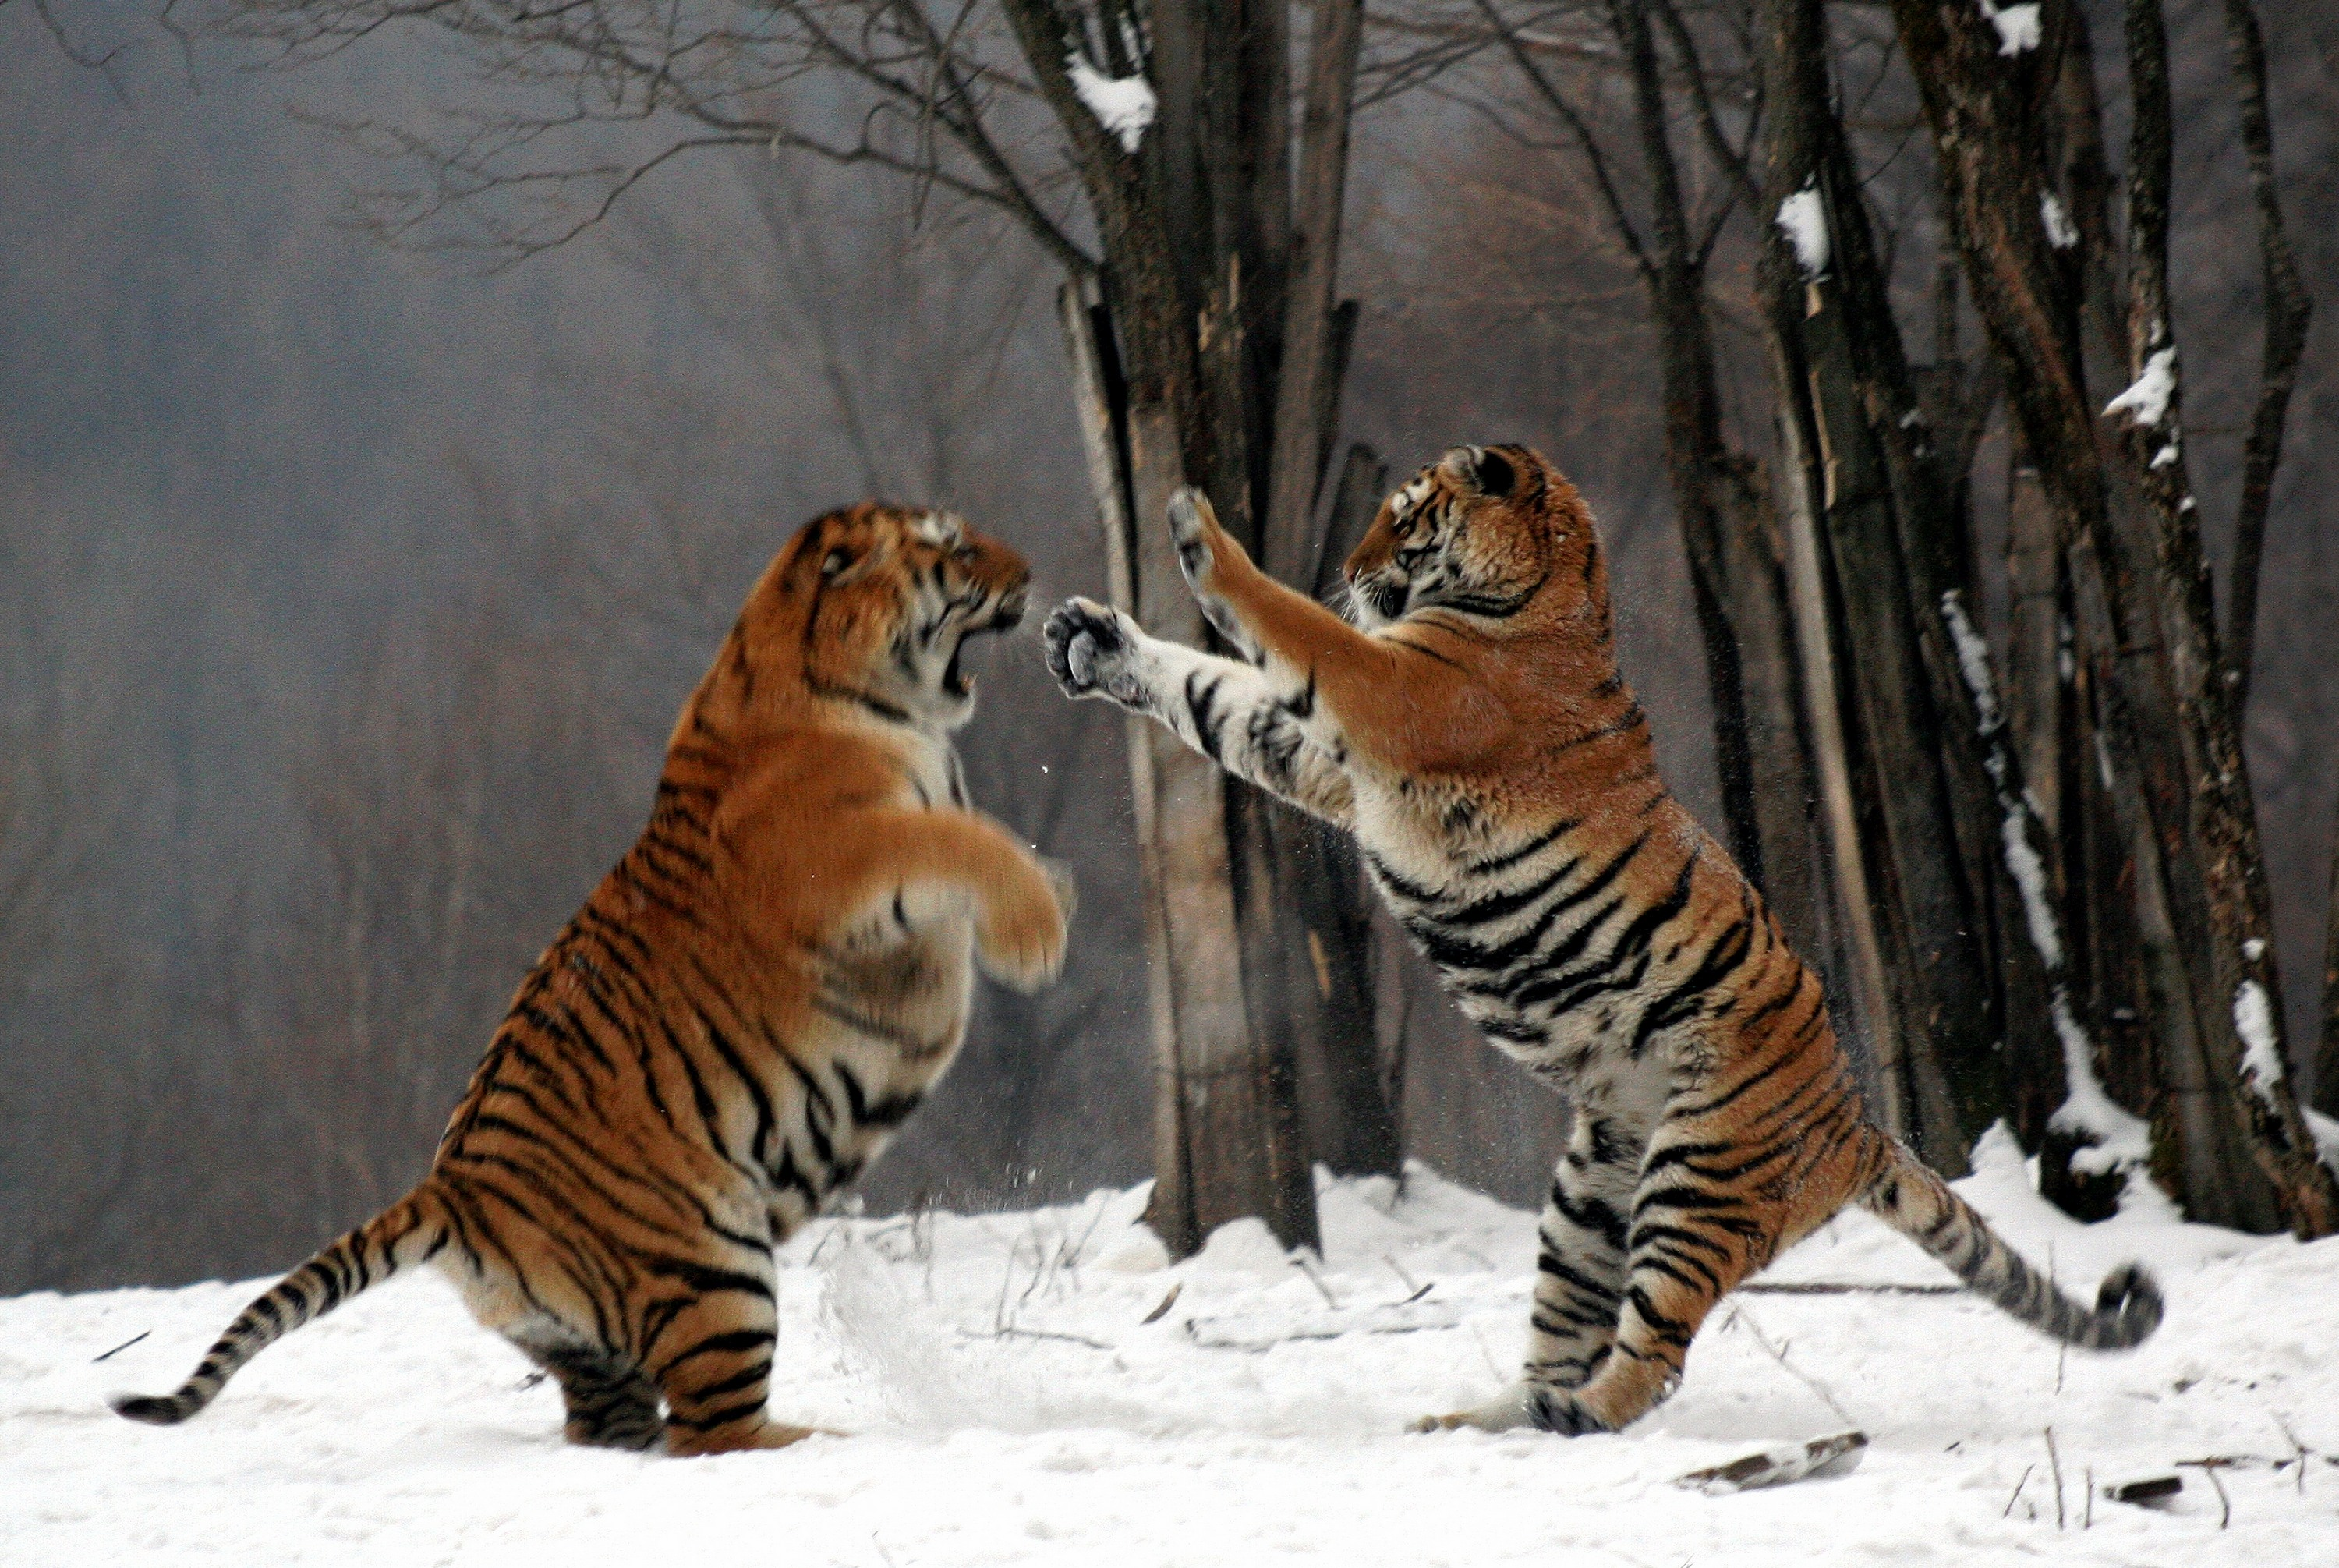tiger: (1043, 329, 2182, 1407), (304, 422, 1090, 1449)
